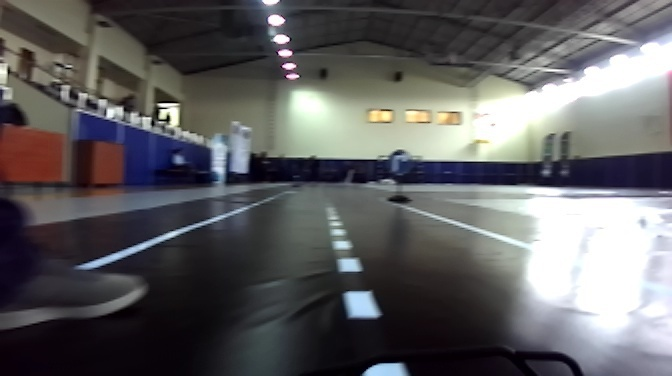saga_donus: (386, 149, 414, 178)
